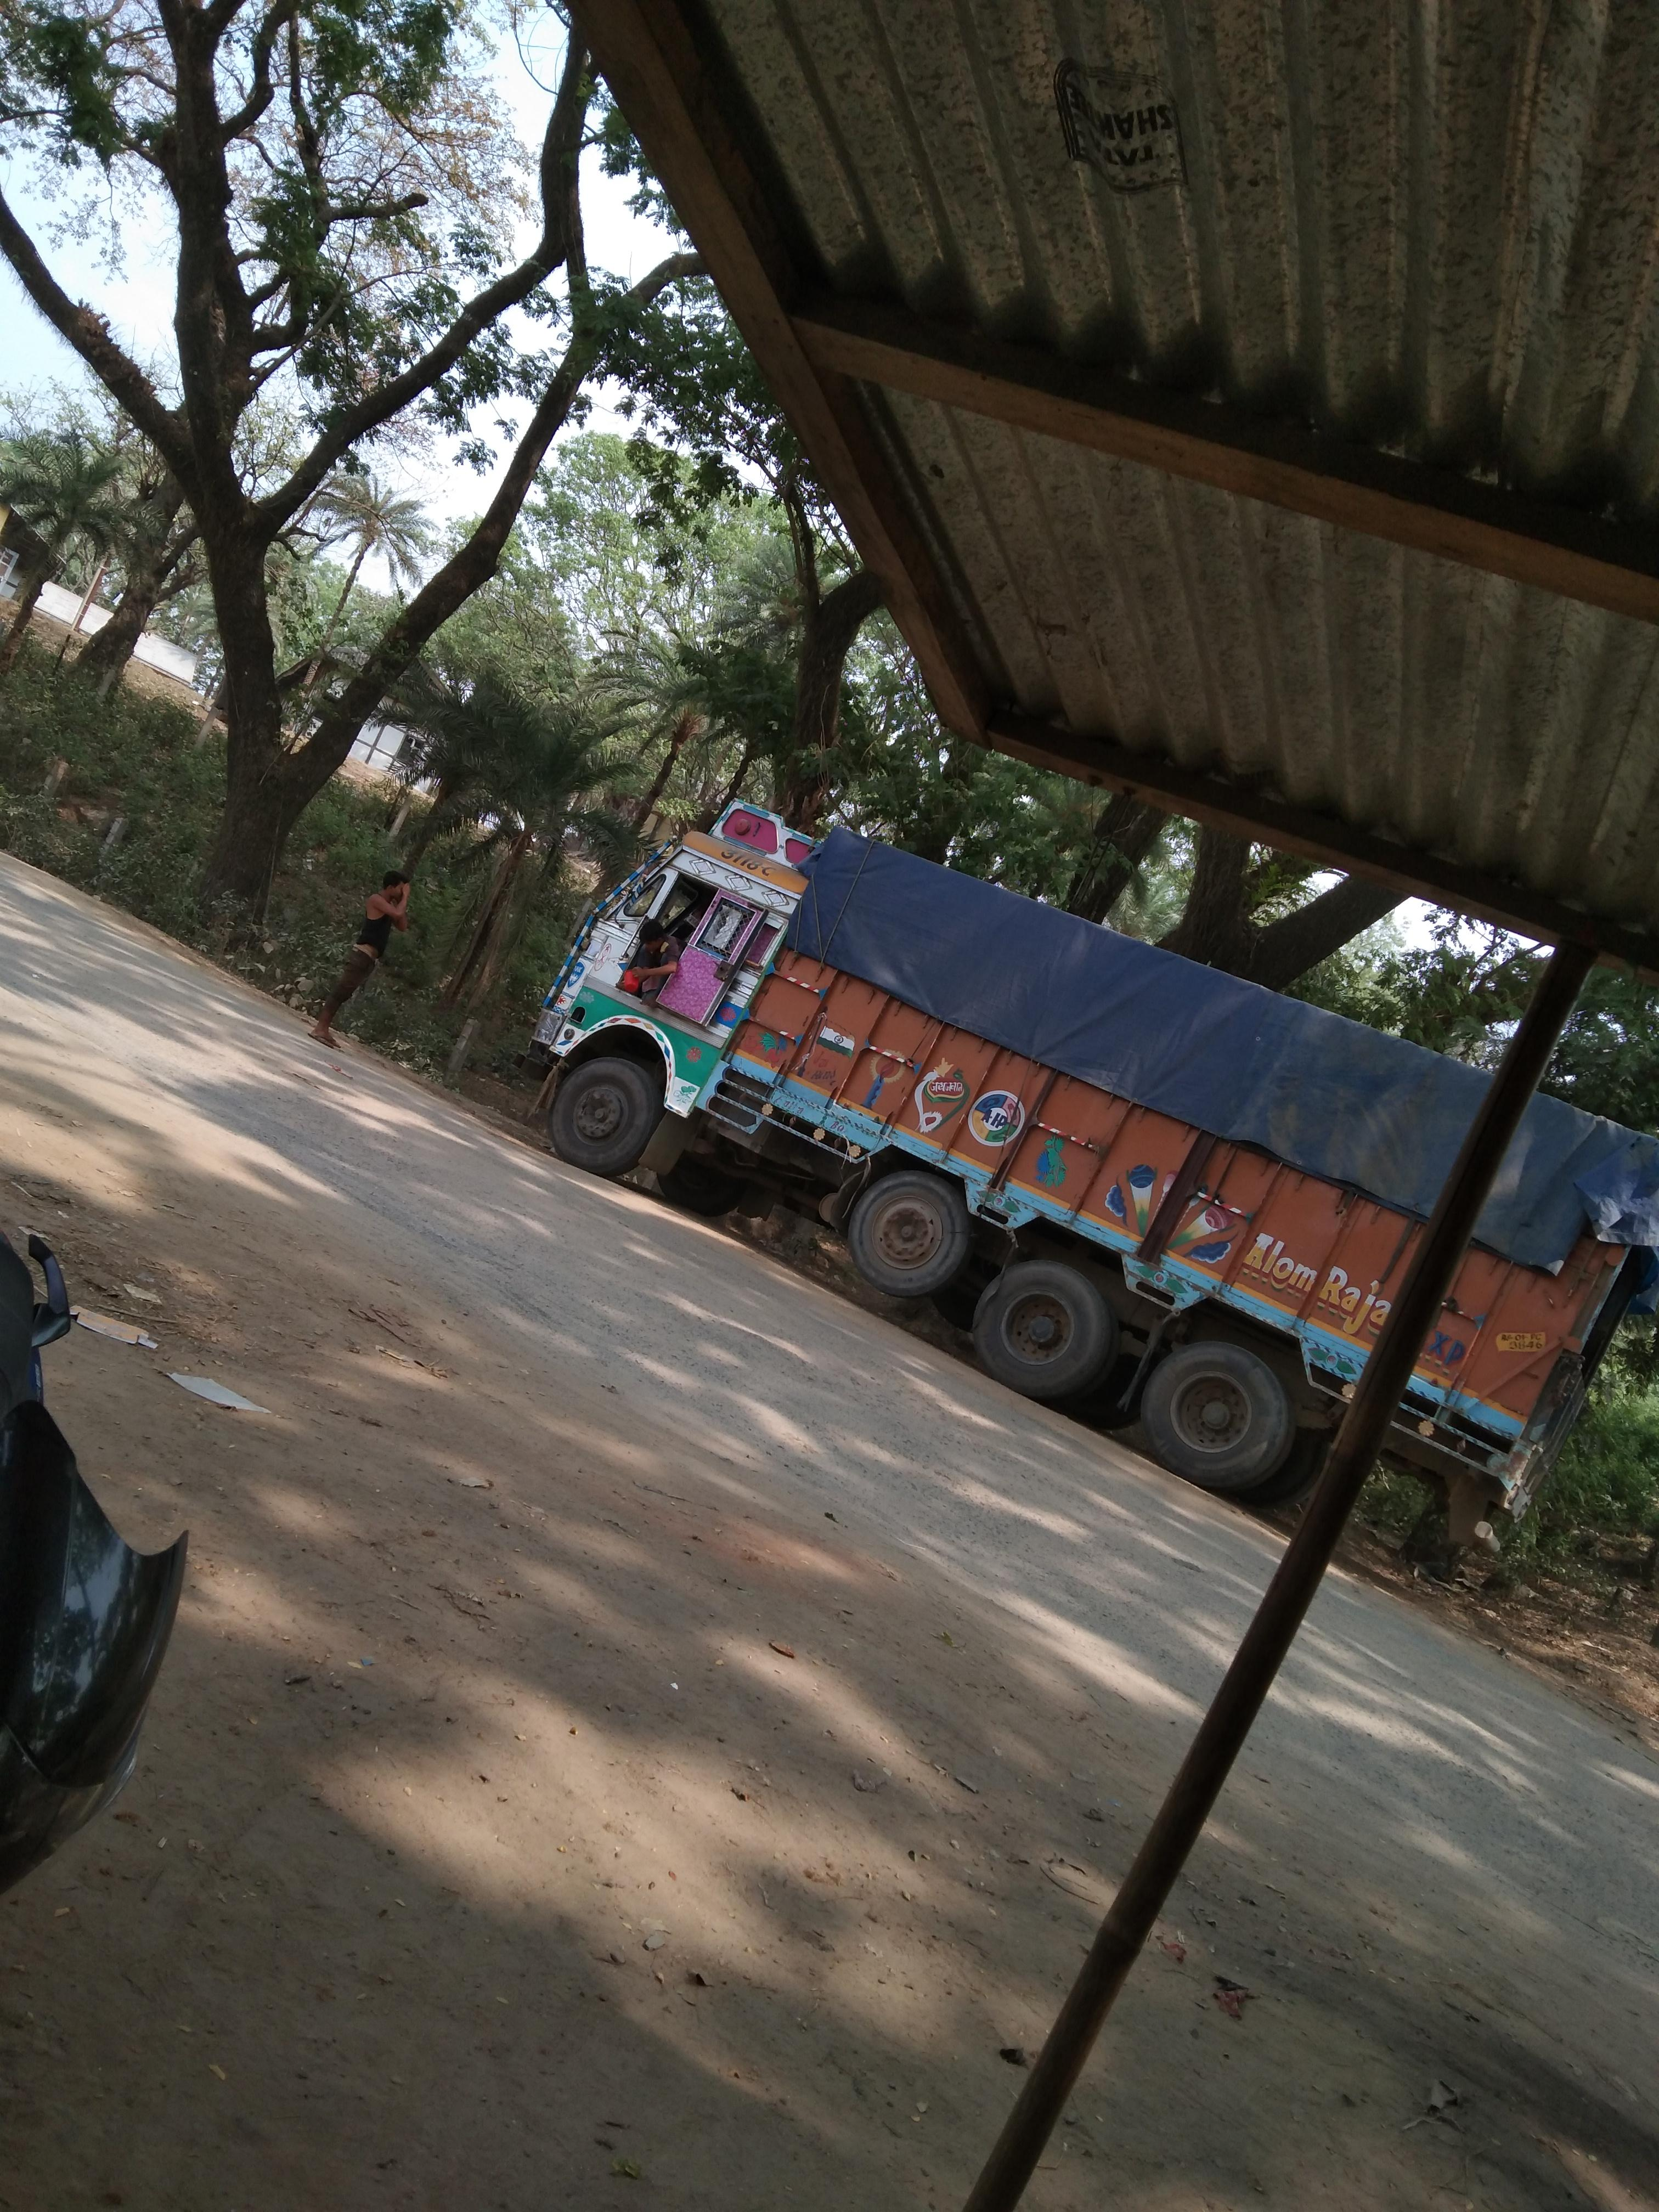Truck: (582, 805, 1642, 1517)
